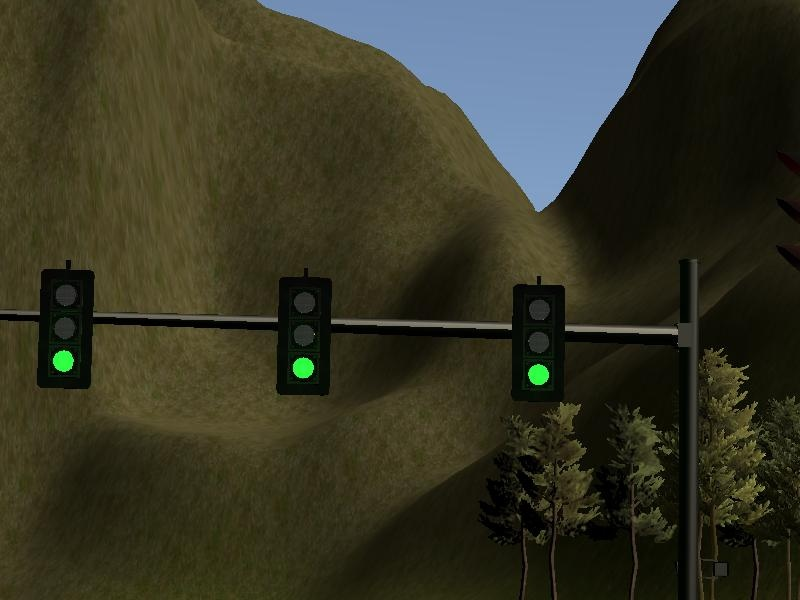GREEN: (37, 268, 94, 388), (276, 276, 332, 394), (510, 284, 565, 404)
